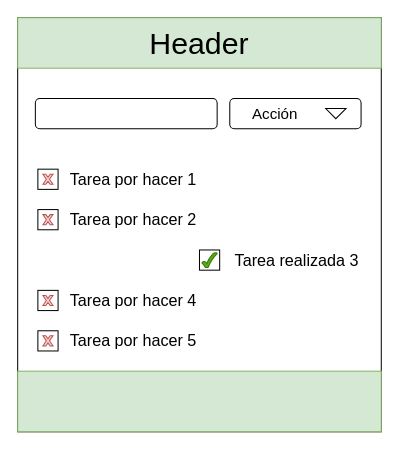
This 399x449 diagram has some shape labels left out. The shapes that lost their labels are listed below. From the top down, each one's centre as x and y in pixels, then its label:
the point at 125,113: Tarea seleccionada
the point at 199,401: Footer
